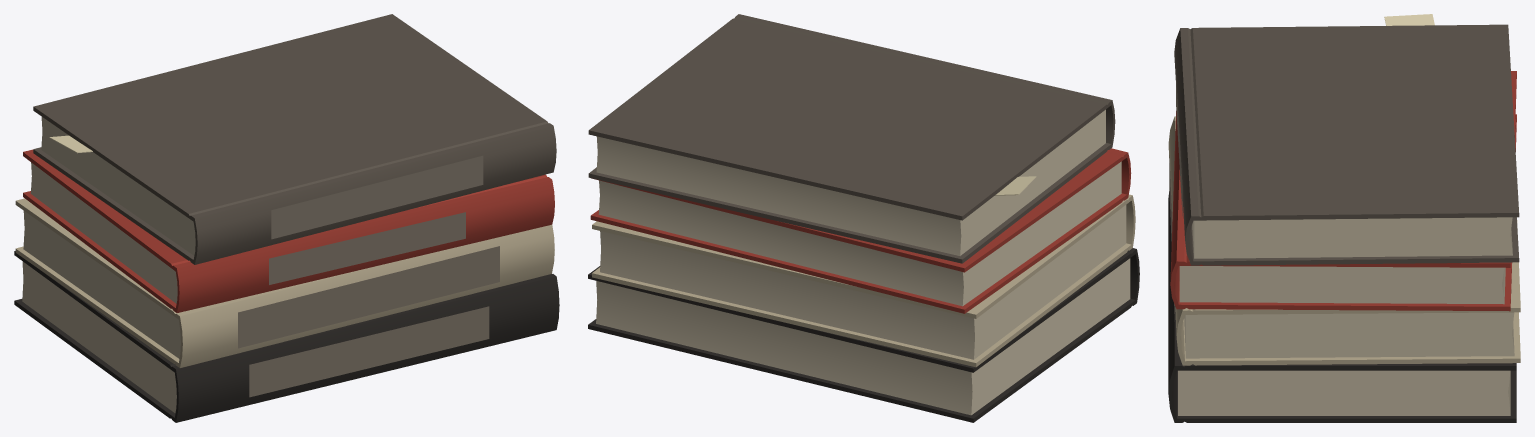
The model's file is bedroom-book-stack-7ed7230291eb.glb.
The picture shows the model from 3 angles, left to right: view 1: azimuth 30°, elevation 25°; view 2: azimuth 150°, elevation 25°; view 3: azimuth 270°, elevation 25°; orthographic projection. The views are drawn at different scales.
Parts seen in each view (by area): view 1: fabric, cover-print, paper, accent-warm, speaker-cloth, enamel-beige; view 2: paper, fabric, accent-warm, enamel-beige, speaker-cloth; view 3: fabric, paper, speaker-cloth, accent-warm, enamel-beige, dial-cream, cover-print.
Boxes of the visible parts, left/top/right/bottom form: fabric: left=33, top=14, right=556, bottom=264; cover-print: left=238, top=155, right=499, bottom=397; paper: left=22, top=117, right=195, bottom=413; accent-warm: left=23, top=149, right=554, bottom=312; speaker-cloth: left=14, top=251, right=559, bottom=422; enamel-beige: left=15, top=198, right=554, bottom=367; paper: left=596, top=109, right=1130, bottom=415; fabric: left=588, top=14, right=1115, bottom=263; accent-warm: left=590, top=148, right=1131, bottom=313; enamel-beige: left=592, top=194, right=1135, bottom=367; speaker-cloth: left=588, top=248, right=1139, bottom=422; fabric: left=1174, top=24, right=1519, bottom=265; paper: left=1178, top=217, right=1514, bottom=415; speaker-cloth: left=1168, top=191, right=1516, bottom=422; accent-warm: left=1170, top=71, right=1516, bottom=311; enamel-beige: left=1168, top=116, right=1520, bottom=365; dial-cream: left=1384, top=14, right=1434, bottom=25; cover-print: left=1169, top=76, right=1182, bottom=321.
Bounding box in the file's own units: 0.2359 × 0.1142 × 0.1741.
